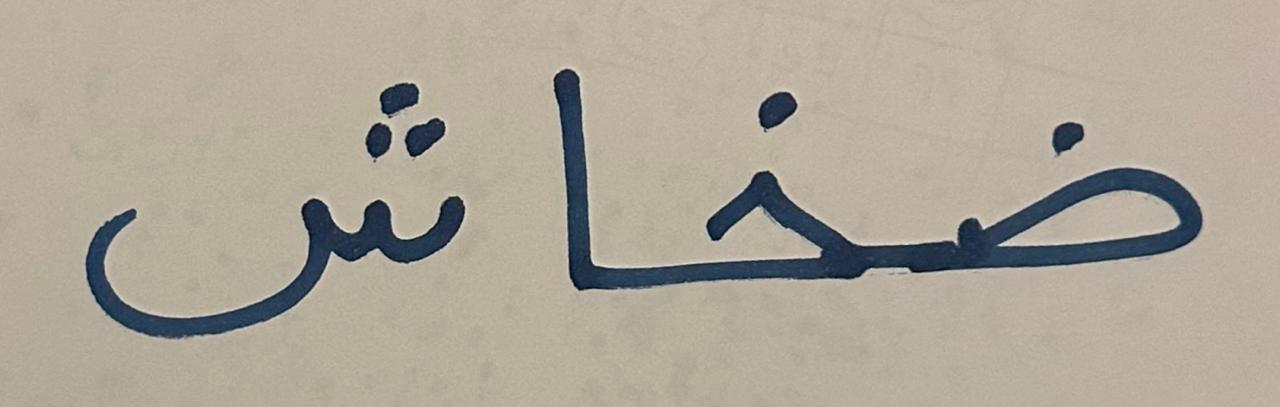alef: (507, 19, 634, 342)
dad: (888, 16, 1228, 332)
lam: (636, 30, 883, 332)
tah: (27, 33, 504, 372)
